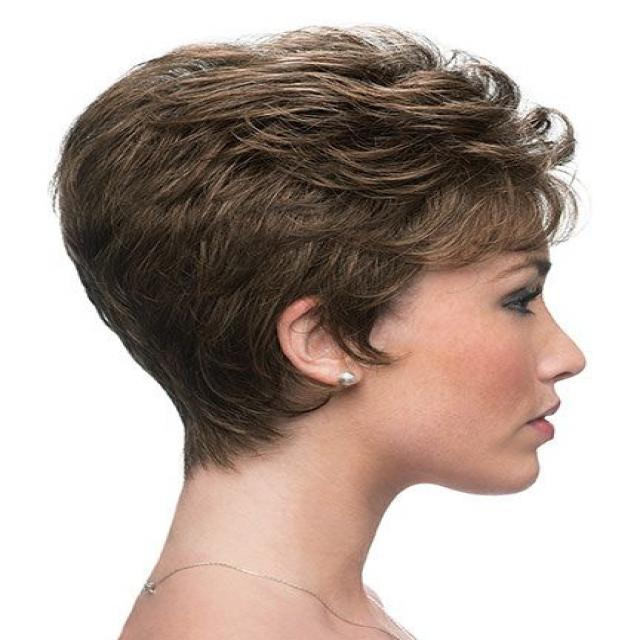Healthy: (153, 414, 430, 614)
